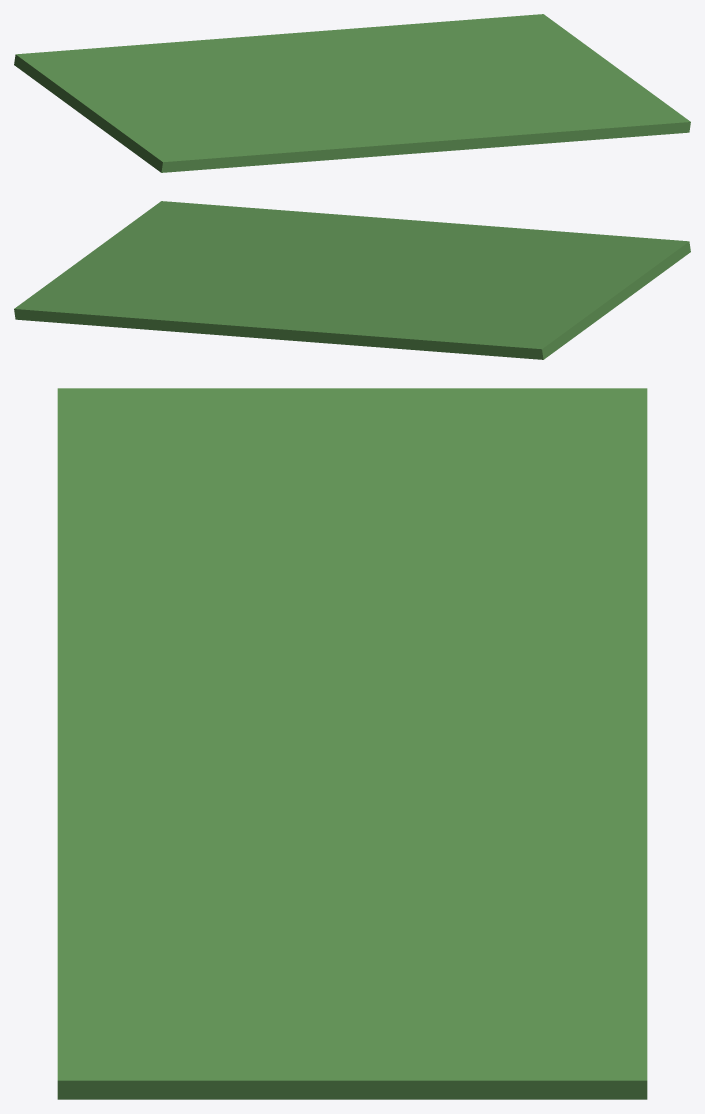
File: SmallSlide.fbx
3 views of the same model, one above another, from view 1: azimuth 30°, elevation 25°; view 2: azimuth 150°, elevation 25°; view 3: azimuth 270°, elevation 25° (orthographic). The views are drawn at different scales.
Parts seen in each view (by area): view 1: SmallSlide; view 2: SmallSlide; view 3: SmallSlide.
Part boxes in pixels (x1,y1,x2,y2): SmallSlide: (14,14,690,172); SmallSlide: (14,201,690,359); SmallSlide: (57,388,647,1099).
Size of the model in its own units: 8.3 by 1.48 by 4.
